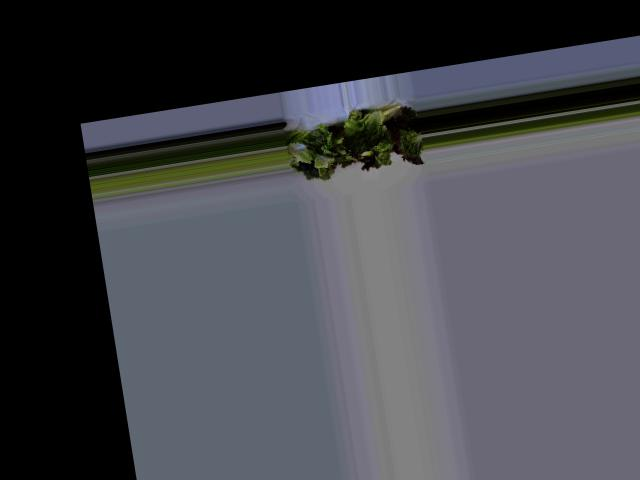lettuce: (291, 109, 421, 178)
